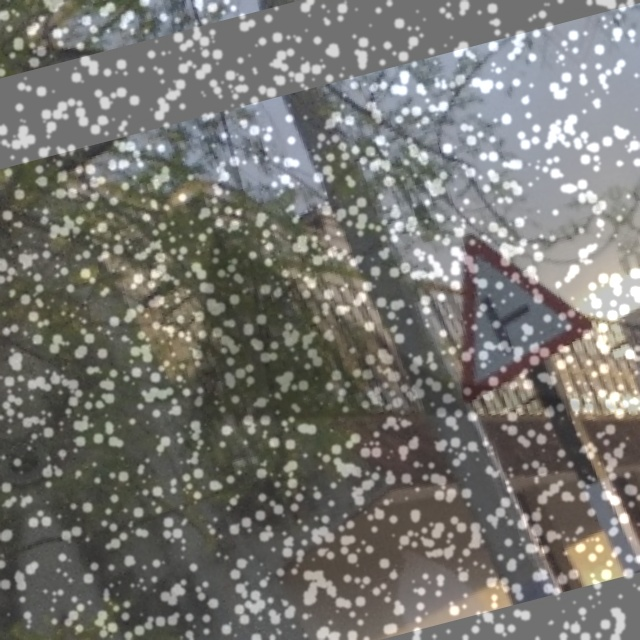Side_Road_Right: (416, 200, 613, 408)
